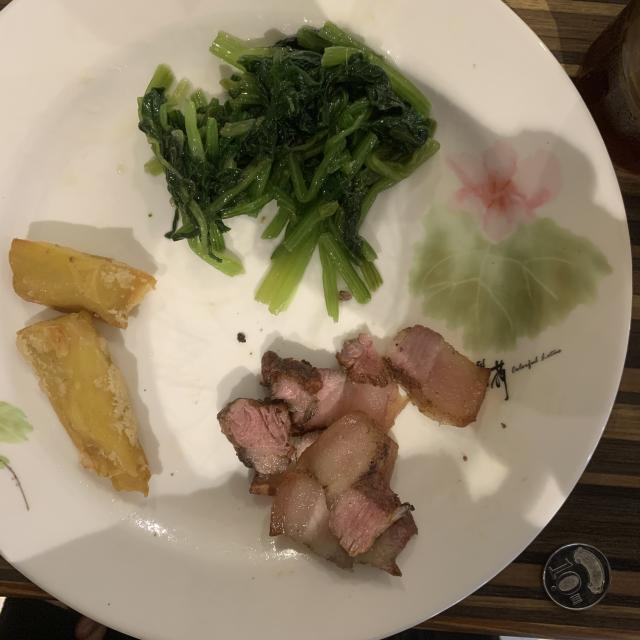coin: (542, 544, 611, 610)
grilled pork: (218, 325, 490, 576)
mustard greens: (139, 22, 439, 320)
